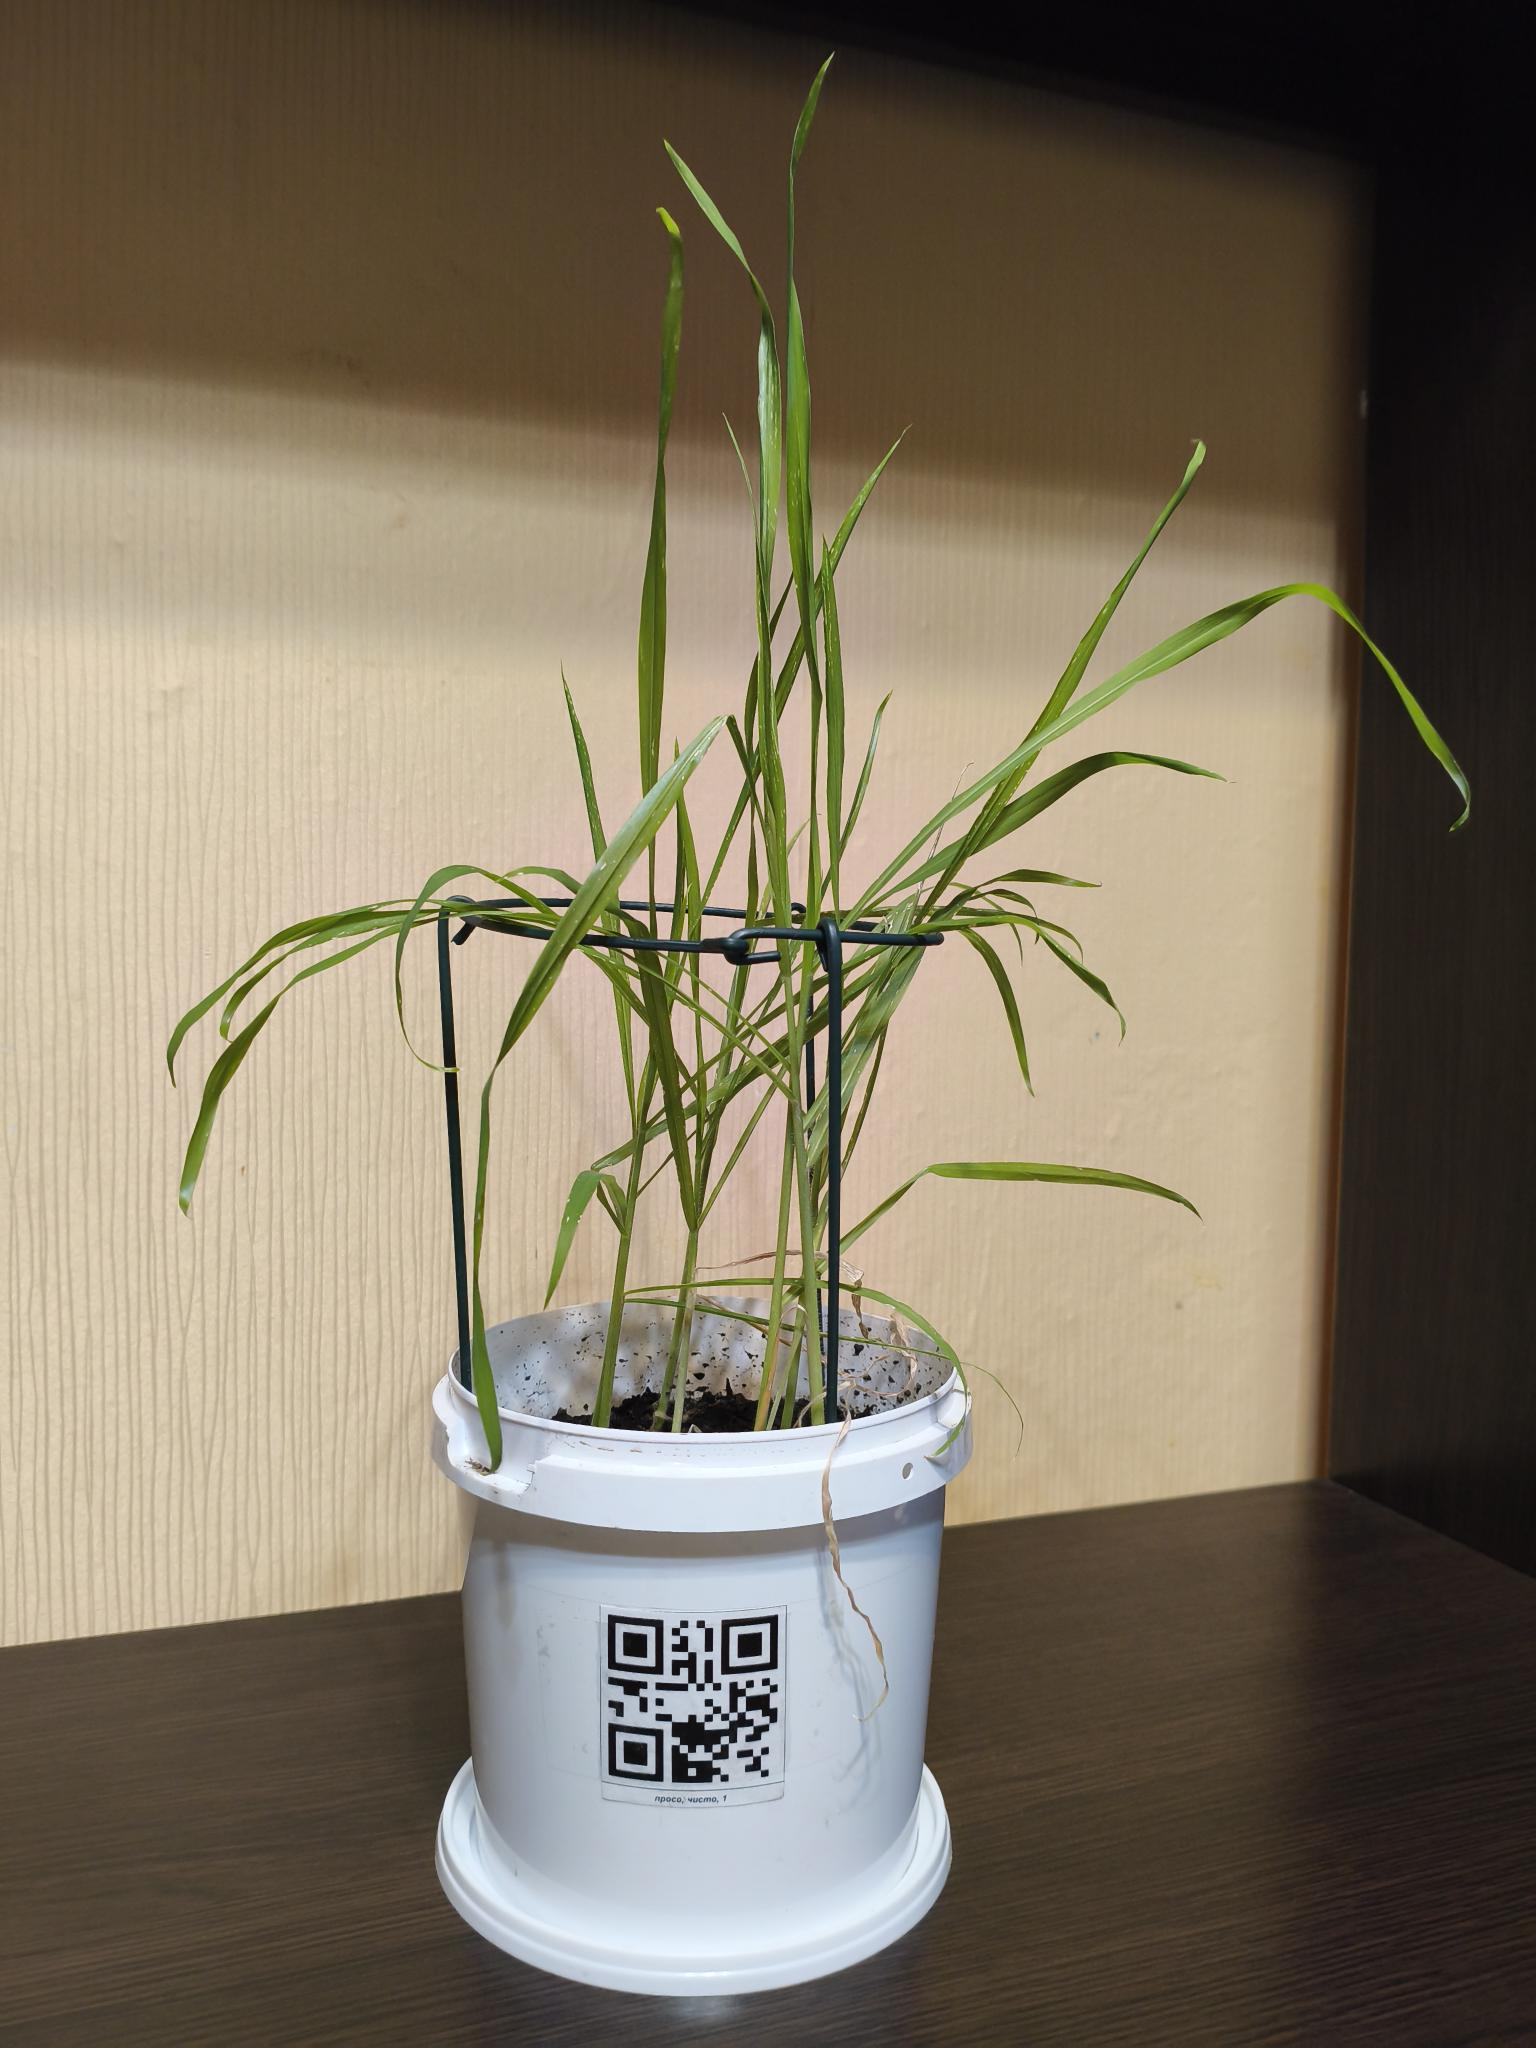container: (429, 1295, 973, 1996)
stem: (592, 1148, 645, 1426), (752, 1135, 795, 1429), (647, 1232, 702, 1427), (794, 1169, 831, 1424), (666, 1274, 702, 1429), (778, 1297, 807, 1429)
